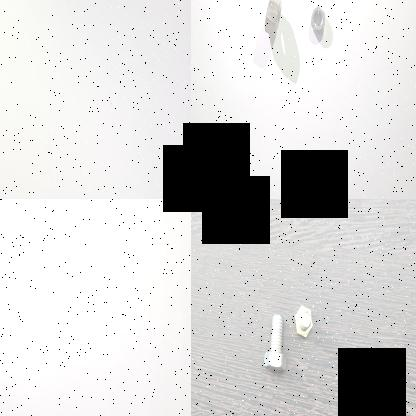Bolts: (260, 310, 292, 382), (292, 301, 314, 343)
NUTS: (263, 0, 283, 40), (310, 2, 332, 38)
